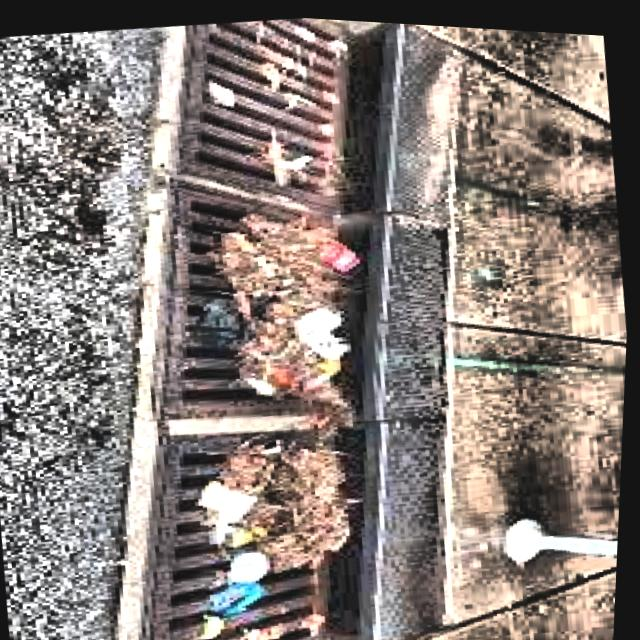clogged_drains: (161, 432, 354, 640), (189, 201, 351, 422), (194, 14, 341, 194)
